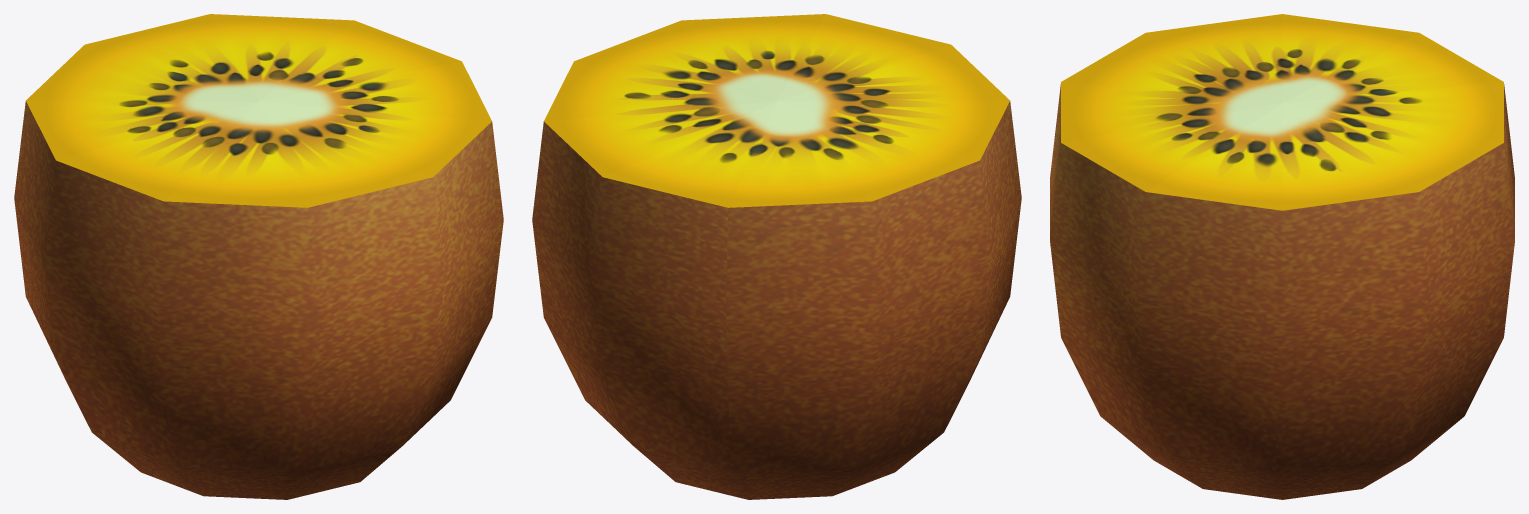
Rendered from Kiwi_Yellow_Half.fbx.
3 renders of one model, left to right at view 1: azimuth 30°, elevation 25°; view 2: azimuth 150°, elevation 25°; view 3: azimuth 270°, elevation 25°, orthographic.
Visible parts, largest first — view 1: Kiwi_Yellow_Half; view 2: Kiwi_Yellow_Half; view 3: Kiwi_Yellow_Half.
Part boxes in pixels (x1=…): Kiwi_Yellow_Half: x1=14, y1=14, x2=503, y2=499; Kiwi_Yellow_Half: x1=532, y1=14, x2=1021, y2=499; Kiwi_Yellow_Half: x1=1050, y1=14, x2=1514, y2=499.
Size of the model in its own units: 23.64 by 19.61 by 22.49.
1 material, 1 textured.
